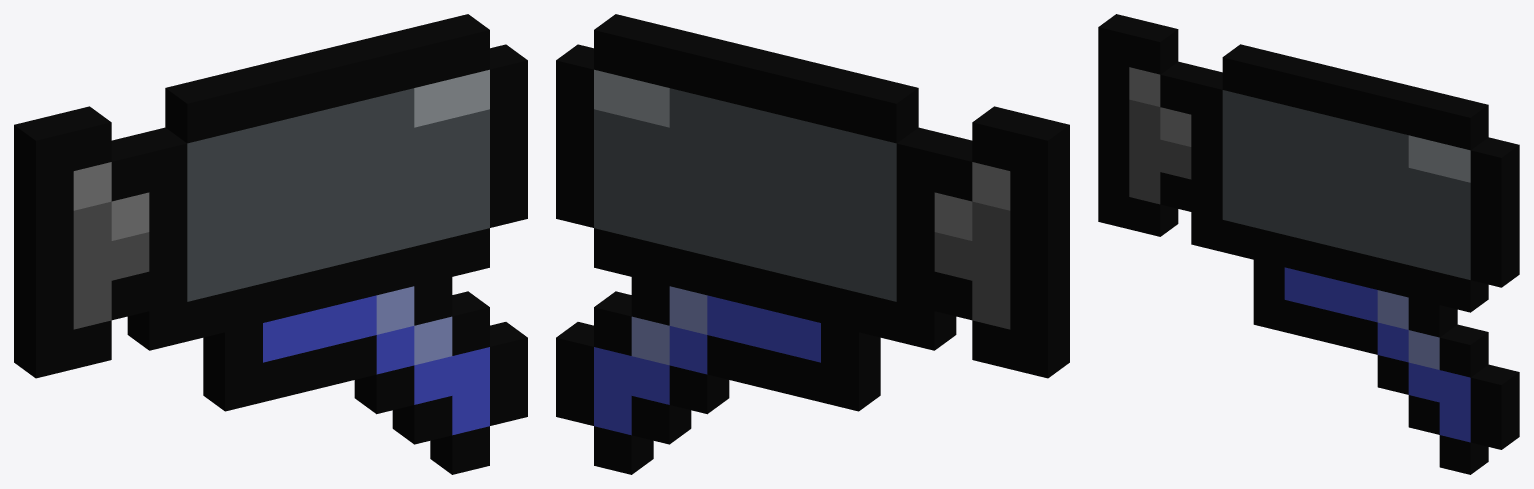
Rendered from Gray Paintball Gun.glb.
3 views of the same model, side by side, from view 1: azimuth 30°, elevation 25°; view 2: azimuth 150°, elevation 25°; view 3: azimuth 330°, elevation 25° (orthographic). The views are drawn at different scales.
Parts seen in each view (by area): view 1: generated(Clone); view 2: generated(Clone); view 3: generated(Clone).
Part boxes in pixels (x1,y1,x2,y2): generated(Clone): (14, 14, 527, 474); generated(Clone): (556, 14, 1069, 474); generated(Clone): (1098, 14, 1519, 474).
Bounding box in the file's own units: 13 × 11 × 1.
1 material, 1 textured.
